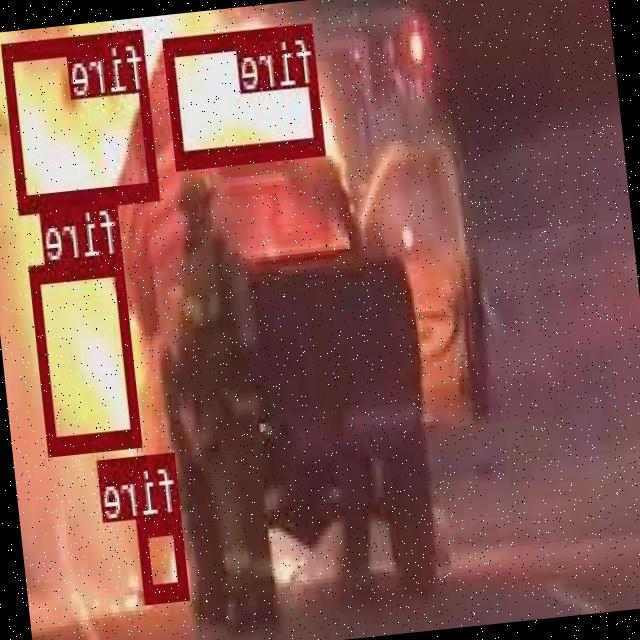fire: (3, 26, 162, 210), (164, 21, 326, 167), (30, 254, 144, 452), (139, 512, 191, 600)
